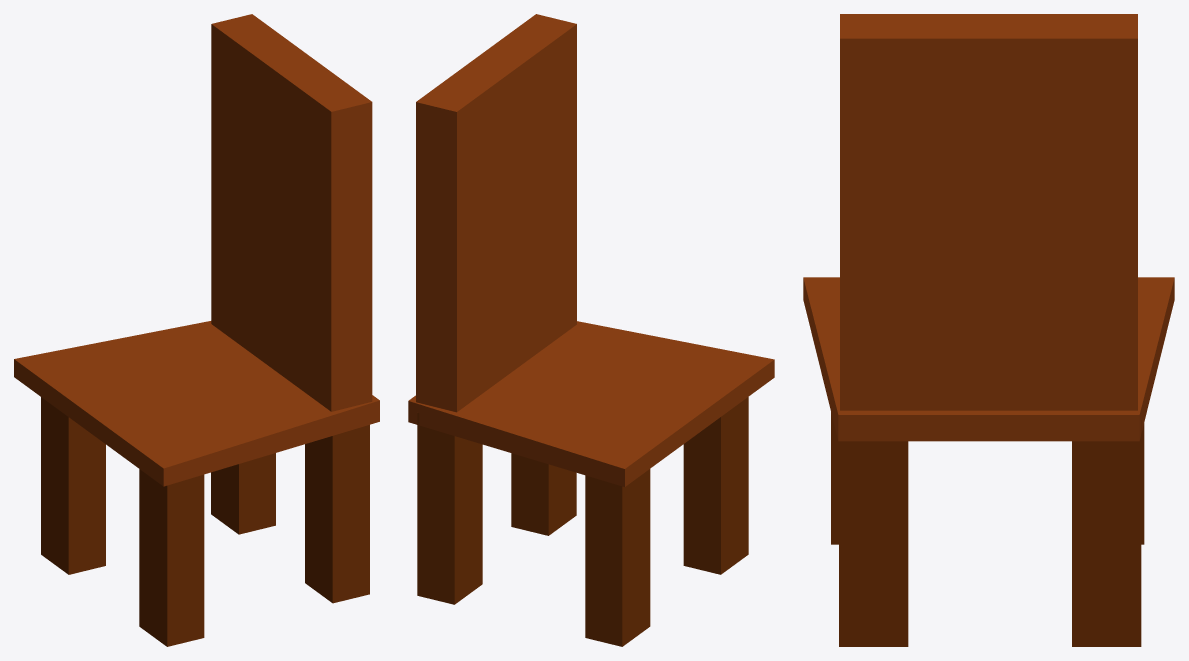
The model's file is chair.fbx.
3 views of the same model, side by side, from view 1: azimuth 30°, elevation 25°; view 2: azimuth 150°, elevation 25°; view 3: azimuth 270°, elevation 25° (orthographic). The views are drawn at different scales.
Parts seen in each view (by area): view 1: Oparcie, Siedzenie, Noga 1, Noga 2, Noga 3, Noga 4; view 2: Oparcie, Siedzenie, Noga 4, Noga 3, Noga 1, Noga 2; view 3: Oparcie, Siedzenie, Noga 4, Noga 2, Noga 1.
Boxes of the visible parts, x1,y1,x2,y2 form: Oparcie: [211, 14, 372, 411]; Siedzenie: [14, 321, 379, 486]; Noga 1: [139, 469, 204, 646]; Noga 2: [305, 425, 369, 603]; Noga 3: [41, 397, 105, 574]; Noga 4: [211, 453, 275, 534]; Oparcie: [416, 14, 576, 412]; Siedzenie: [408, 321, 774, 486]; Noga 4: [417, 412, 482, 604]; Noga 3: [585, 469, 650, 646]; Noga 1: [683, 397, 748, 574]; Noga 2: [511, 453, 576, 535]; Oparcie: [840, 14, 1137, 410]; Siedzenie: [803, 277, 1174, 441]; Noga 4: [1072, 420, 1141, 646]; Noga 2: [839, 441, 908, 646]; Noga 1: [831, 412, 838, 544].
Bounding box in the file's own units: 124 × 253 × 139.
